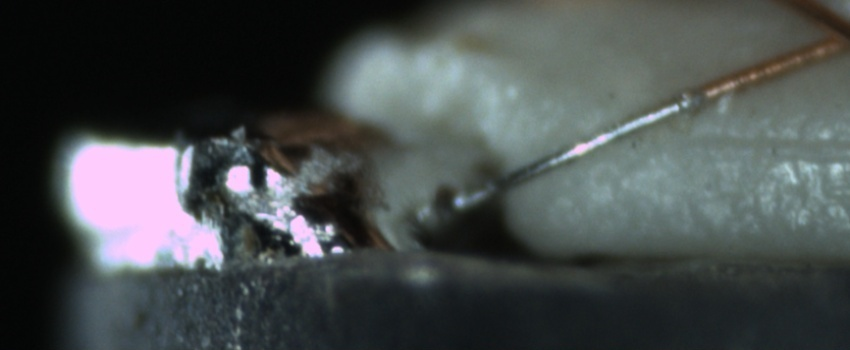CL: (797, 6, 850, 64)
DL: (676, 106, 848, 174)
TS: (437, 85, 697, 223)
TTCW: (451, 51, 744, 233)
